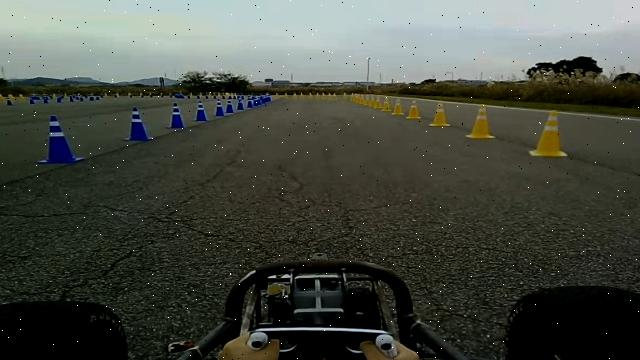blue cone: (36, 115, 84, 163), (122, 107, 153, 141), (166, 102, 186, 128), (194, 100, 208, 121), (214, 100, 225, 116), (236, 95, 245, 111), (225, 99, 234, 114), (246, 94, 253, 108), (261, 95, 271, 104), (252, 97, 261, 107)
yellow cone: (529, 109, 568, 157), (465, 103, 495, 139), (428, 102, 449, 126), (405, 100, 421, 119), (391, 99, 404, 115), (380, 97, 391, 112), (364, 94, 373, 108), (374, 96, 383, 109)
